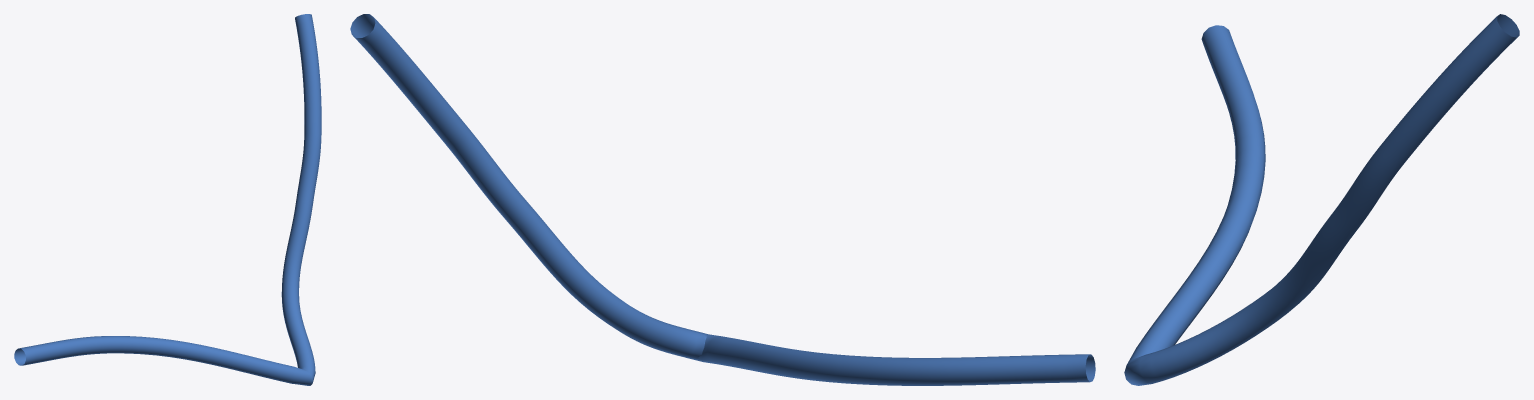
The picture shows the model from 3 angles, left to right: view 1: azimuth 30°, elevation 25°; view 2: azimuth 150°, elevation 25°; view 3: azimuth 270°, elevation 25°; orthographic projection. The views are drawn at different scales.
Parts seen in each view (by area): view 1: 左侧足底静脉弓; view 2: 左侧足底静脉弓; view 3: 左侧足底静脉弓.
Part boxes in pixels (x1,y1,x2,y2): 左侧足底静脉弓: [14, 14, 321, 385]; 左侧足底静脉弓: [350, 14, 1095, 385]; 左侧足底静脉弓: [1124, 14, 1519, 385].
Size of the model in its own units: 0.0654 by 0.0444 by 0.0349.
